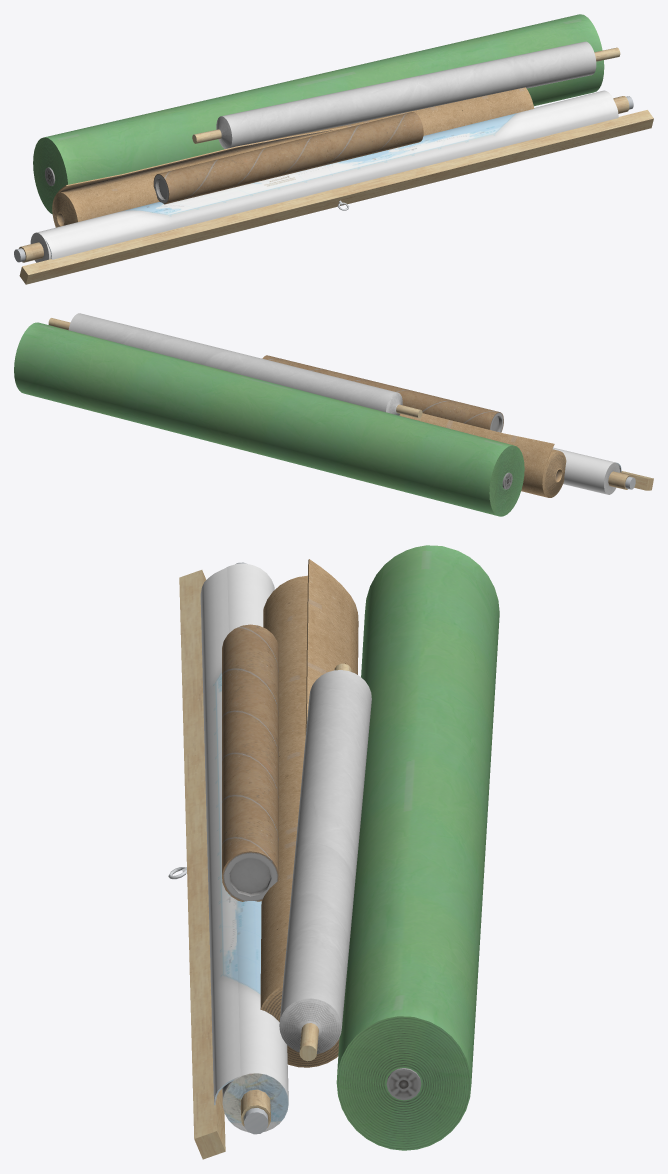
File: SM_Paper_Rolls_01b.fbx
3 views of the same model, one above another, from view 1: azimuth 30°, elevation 25°; view 2: azimuth 150°, elevation 25°; view 3: azimuth 270°, elevation 25° (orthographic). The views are drawn at different scales.
Parts seen in each view (by area): view 1: SM_Paper_Rolls_01b_LOD0; view 2: SM_Paper_Rolls_01b_LOD0; view 3: SM_Paper_Rolls_01b_LOD0.
Part boxes in pixels (x1=…): SM_Paper_Rolls_01b_LOD0: x1=14, y1=14, x2=653, y2=284; SM_Paper_Rolls_01b_LOD0: x1=14, y1=313, x2=653, y2=516; SM_Paper_Rolls_01b_LOD0: x1=168, y1=545, x2=499, y2=1159.
Size of the model in its own units: 177 by 44.13 by 20.95.
